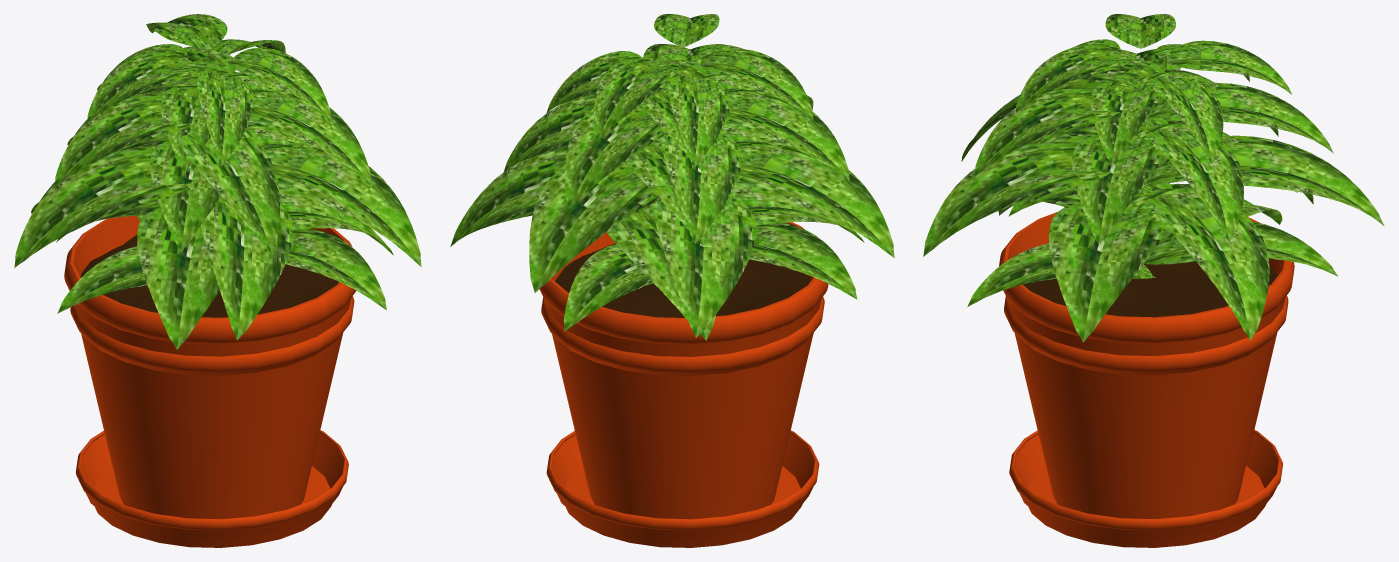
File: Plant.dae
The picture shows the model from 3 angles, left to right: view 1: azimuth 30°, elevation 25°; view 2: azimuth 150°, elevation 25°; view 3: azimuth 270°, elevation 25°; orthographic projection.
Parts seen in each view (by area): view 1: Group5, Group1, Group13, Group11, Group2, Group25, Group15, Group23, Group16, Group6, Group14, Group37 (+12 smaller); view 2: Group5, Group7, Group3, Group1, Group6, Group17, Group19, Group15, Group9, Group4, Group10, Group31 (+12 smaller); view 3: Group5, Group12, Group9, Group11, Group7, Group6, Group24, Group21, Group23, Group19, Group36, Group33 (+12 smaller).
Part boxes in pixels (x1=…): Group5: x1=64, y1=215, x2=356, y2=547; Group1: x1=14, y1=149, x2=193, y2=267; Group13: x1=201, y1=197, x2=292, y2=340; Group11: x1=270, y1=142, x2=421, y2=266; Group2: x1=137, y1=207, x2=219, y2=349; Group25: x1=177, y1=129, x2=279, y2=253; Group15: x1=54, y1=95, x2=192, y2=187; Group23: x1=250, y1=90, x2=371, y2=186; Group16: x1=150, y1=140, x2=220, y2=251; Group6: x1=80, y1=235, x2=339, y2=317; Group14: x1=285, y1=228, x2=386, y2=310; Group37: x1=197, y1=72, x2=254, y2=166; Group5: x1=539, y1=222, x2=828, y2=547; Group7: x1=529, y1=162, x2=668, y2=292; Group3: x1=653, y1=195, x2=755, y2=337; Group1: x1=735, y1=140, x2=894, y2=257; Group6: x1=555, y1=243, x2=810, y2=317; Group17: x1=661, y1=132, x2=741, y2=243; Group19: x1=564, y1=104, x2=671, y2=208; Group15: x1=724, y1=89, x2=849, y2=181; Group9: x1=450, y1=148, x2=567, y2=246; Group4: x1=749, y1=222, x2=857, y2=299; Group10: x1=563, y1=244, x2=652, y2=331; Group31: x1=594, y1=58, x2=679, y2=140; Group5: x1=999, y1=212, x2=1294, y2=547; Group12: x1=1049, y1=203, x2=1167, y2=342; Group9: x1=1153, y1=197, x2=1269, y2=340; Group11: x1=923, y1=142, x2=1111, y2=256; Group7: x1=1175, y1=135, x2=1384, y2=226; Group6: x1=1023, y1=261, x2=1278, y2=317; Group24: x1=1072, y1=136, x2=1164, y2=243; Group21: x1=1153, y1=131, x2=1243, y2=242; Group23: x1=974, y1=88, x2=1119, y2=177; Group19: x1=1171, y1=83, x2=1333, y2=153; Group36: x1=1091, y1=81, x2=1161, y2=164; Group33: x1=1153, y1=77, x2=1223, y2=163.
Size of the model in its own units: 1033 by 1066 by 1149.
Materials: 3 (1 with a texture image).
